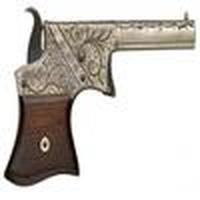gun: (2, 17, 200, 183)
